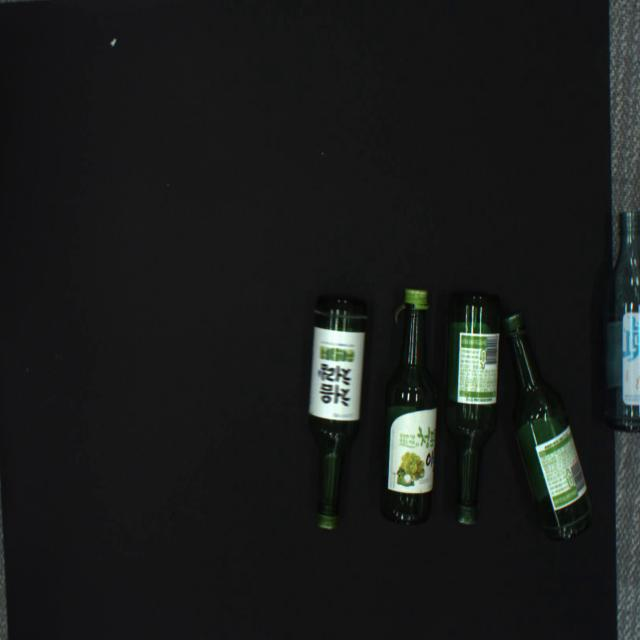soju-bottle: (503, 314, 592, 541), (308, 296, 370, 530), (378, 289, 438, 525), (444, 293, 503, 524), (601, 210, 640, 431)
